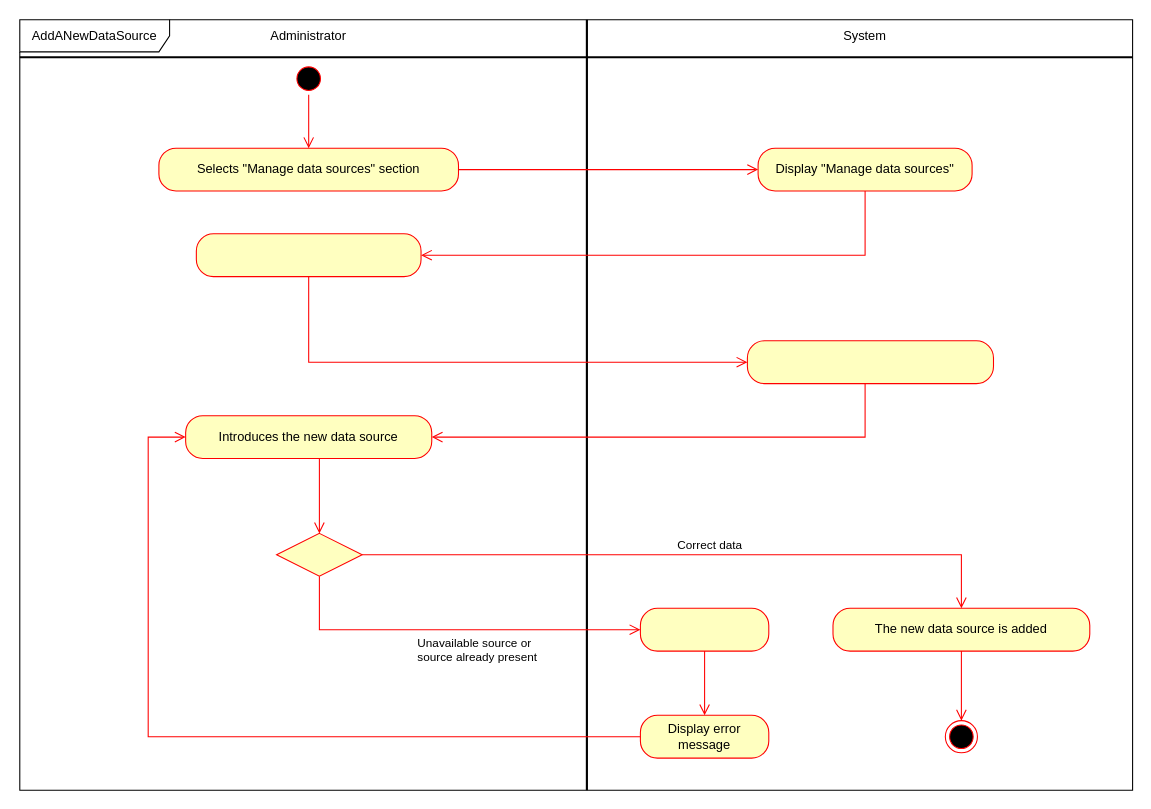
The diagram is 1151 pixels wide and 809 high, and some of its shapes have lost their labels. The box of each missing label's shape, as (x1, y1, x2, y2) in pixels:
Display "Add a new source" form: (746, 340, 993, 384)
Error: (639, 607, 769, 651)
Select "Add a new source": (195, 233, 421, 277)
